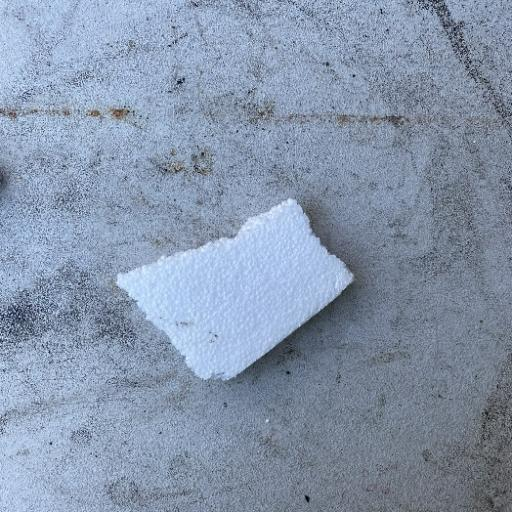Plastic: (112, 195, 357, 384)
